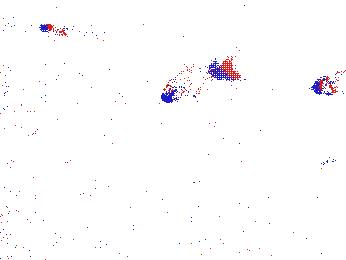X-ray fish: (310, 70, 346, 96)
red belly glassfish: (37, 21, 91, 38)
redtail glassfish: (160, 60, 231, 103), (320, 147, 346, 172)
